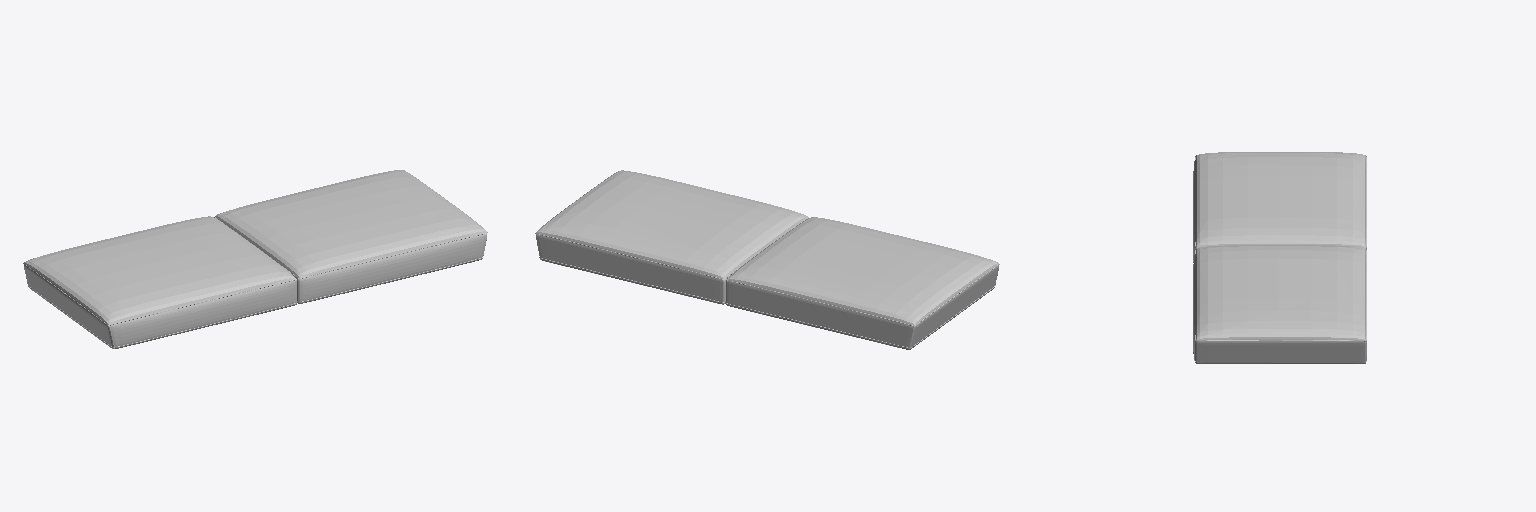
File: ziri2.s.obj
3 renders of one model, left to right at view 1: azimuth 30°, elevation 25°; view 2: azimuth 150°, elevation 25°; view 3: azimuth 270°, elevation 25°, orthographic.
Parts seen in each view (by area): view 1: ziri; view 2: ziri; view 3: ziri.
Boxes of the visible parts, x1=… form: ziri: x1=23, y1=170, x2=487, y2=348; ziri: x1=535, y1=170, x2=999, y2=349; ziri: x1=1193, y1=152, x2=1366, y2=363.
Size of the model in its own units: 56.78 by 5.23 by 22.55.